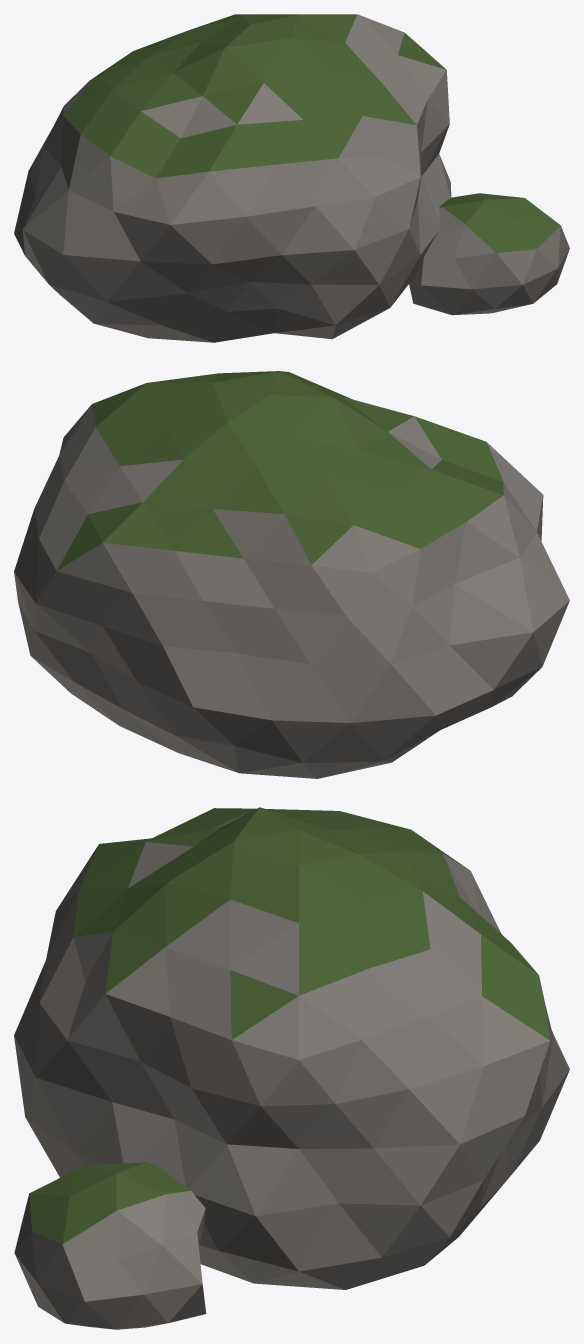
Rendered from boulder.glb.
3 views of the same model, one above another, from view 1: azimuth 30°, elevation 25°; view 2: azimuth 150°, elevation 25°; view 3: azimuth 270°, elevation 25° (orthographic). The views are drawn at different scales.
Visible parts, largest first — view 1: boulder; view 2: boulder; view 3: boulder.
Part boxes in pixels (x1,y1,x2,y2): boulder: [14, 14, 569, 342]; boulder: [14, 371, 569, 778]; boulder: [14, 807, 569, 1329].
Bounding box in the file's own units: 1.23 × 0.663 × 0.9153.
